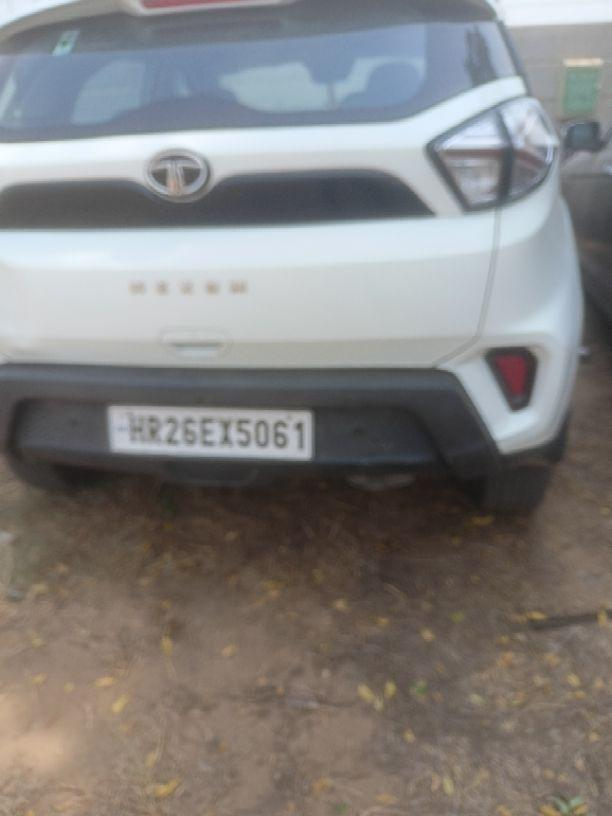license_plate: (104, 402, 315, 462)
